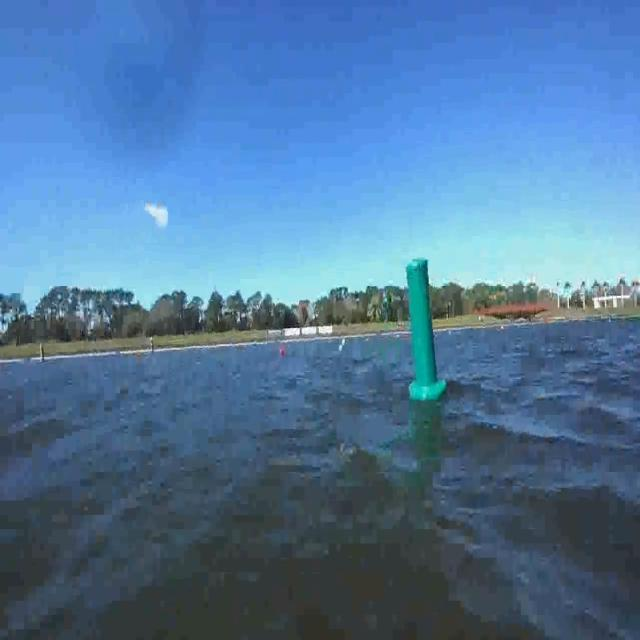green-column-buoy: (407, 256, 447, 401)
